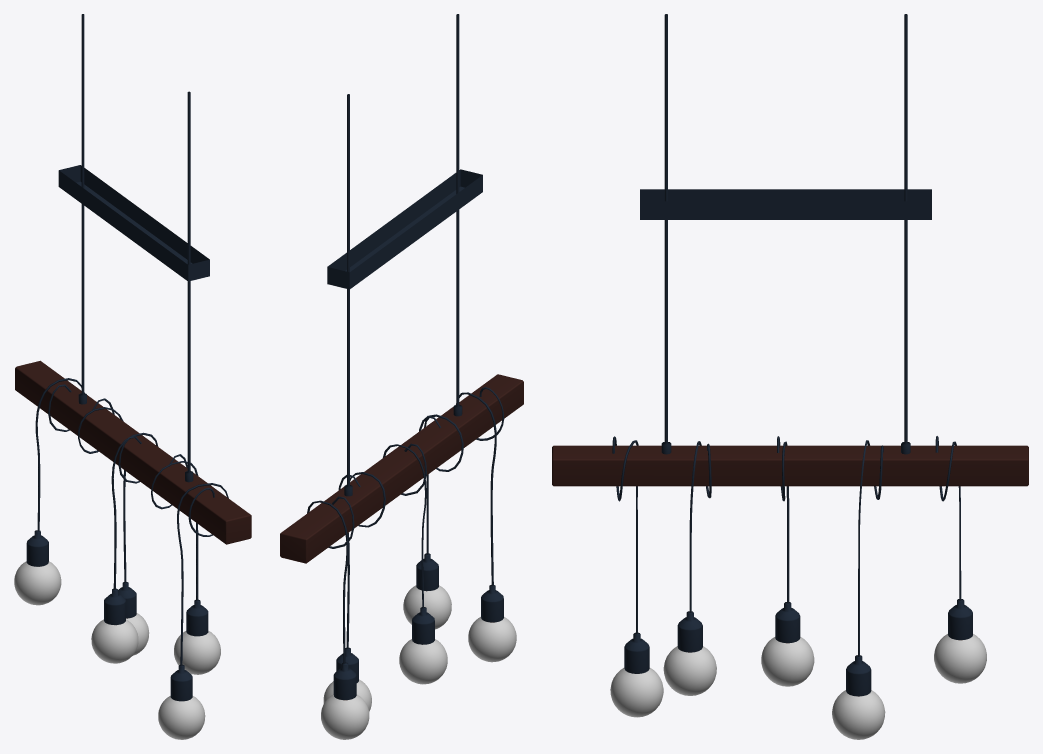
Rendered from LampCeilingHangingBulbs.fbx.
The picture shows the model from 3 angles, left to right: view 1: azimuth 30°, elevation 25°; view 2: azimuth 150°, elevation 25°; view 3: azimuth 270°, elevation 25°; orthographic projection. The views are drawn at different scales.
Parts seen in each view (by area): view 1: LampCeilingHangingBulbs, LampCeilingHangingBulbs_Base; view 2: LampCeilingHangingBulbs, LampCeilingHangingBulbs_Base; view 3: LampCeilingHangingBulbs, LampCeilingHangingBulbs_Base.
Boxes of the visible parts, x1,y1,x2,y2 form: LampCeilingHangingBulbs: [14, 14, 251, 739]; LampCeilingHangingBulbs_Base: [58, 165, 209, 281]; LampCeilingHangingBulbs: [280, 14, 523, 739]; LampCeilingHangingBulbs_Base: [327, 169, 482, 289]; LampCeilingHangingBulbs: [552, 14, 1028, 739]; LampCeilingHangingBulbs_Base: [640, 189, 931, 219].
Bounding box in the file's own units: 26.24 × 189 × 115.
